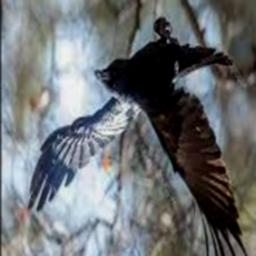Crow: (27, 17, 248, 256)
